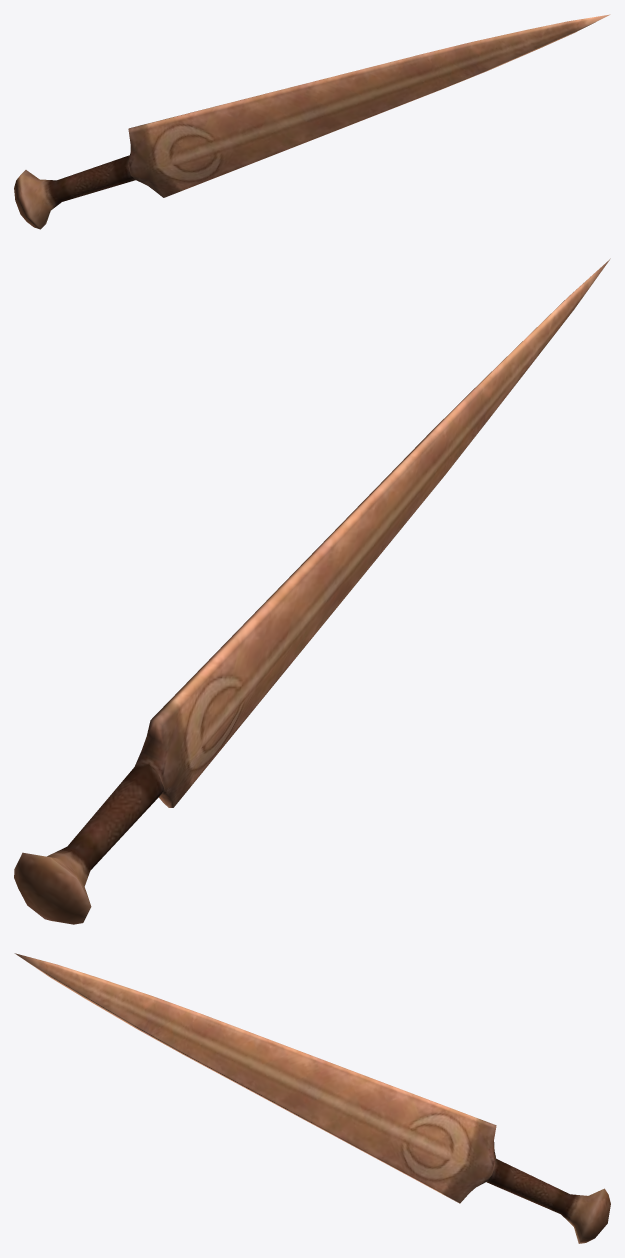
File: weapon-copperweapons.glb
3 renders of one model, top to bottom at view 1: azimuth 90°, elevation 25°; view 2: azimuth 150°, elevation 25°; view 3: azimuth 270°, elevation 25°, orthographic. The views are drawn at different scales.
Size of the model in its own units: 0.1987 by 0.4453 by 0.9629.
1 material, 1 textured.
